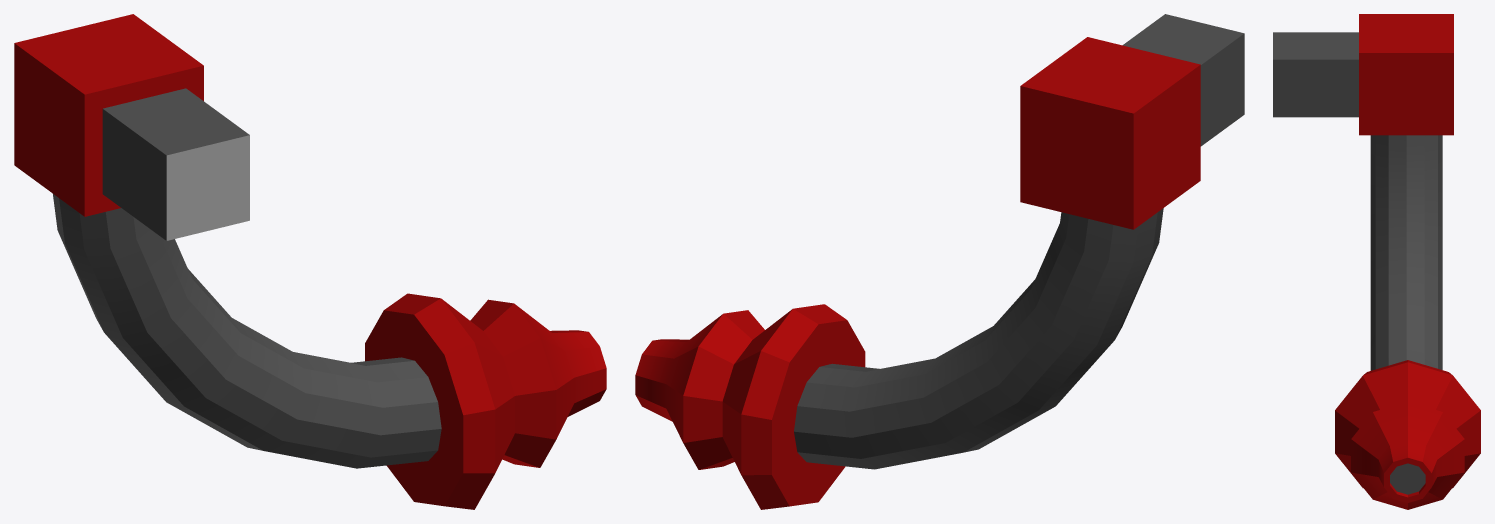
File: bot_leftarm.fbx
3 views of the same model, side by side, from view 1: azimuth 30°, elevation 25°; view 2: azimuth 150°, elevation 25°; view 3: azimuth 270°, elevation 25° (orthographic). The views are drawn at different scales.
Parts seen in each view (by area): view 1: pCylinder2; view 2: pCylinder2; view 3: pCylinder2.
Boxes of the visible parts, x1,y1,x2,y2 form: pCylinder2: [14, 14, 606, 509]; pCylinder2: [635, 14, 1244, 509]; pCylinder2: [1273, 14, 1480, 509].
Bounding box in the file's own units: 2.28 × 2.15 × 1.13.
